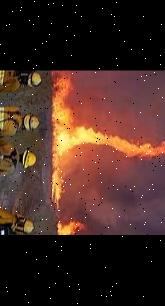fire: (50, 74, 110, 235), (113, 96, 165, 178)
